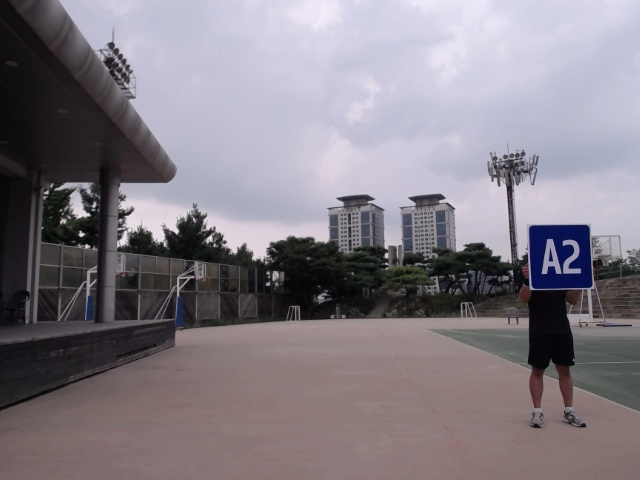delivery_a2: (528, 224, 593, 290)
